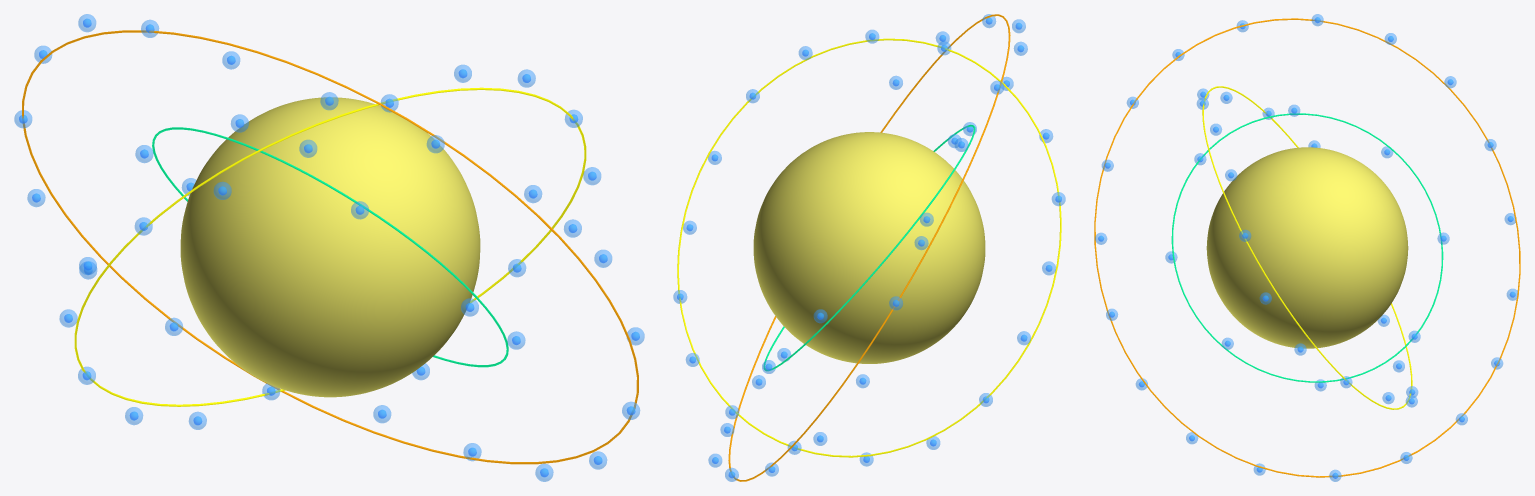
3 views of the same model, side by side, from view 1: azimuth 30°, elevation 25°; view 2: azimuth 150°, elevation 25°; view 3: azimuth 270°, elevation 25° (orthographic). The views are drawn at different scales.
Parts seen in each view (by area): view 1: Ag, object 61, object 24, object 7; view 2: Ag, object 24, object 61, object 7; view 3: Ag, object 61, object 7, object 24.
Part boxes in pixels (x1=…): Ag: x1=180, y1=97, x2=480, y2=397; object 61: x1=22, y1=30, x2=638, y2=464; object 24: x1=74, y1=87, x2=586, y2=406; object 7: x1=152, y1=127, x2=508, y2=367; Ag: x1=753, y1=132, x2=985, y2=363; object 24: x1=677, y1=38, x2=1061, y2=457; object 61: x1=728, y1=14, x2=1010, y2=481; object 7: x1=763, y1=124, x2=975, y2=371; Ag: x1=1206, y1=147, x2=1408, y2=348; object 61: x1=1094, y1=18, x2=1520, y2=477; object 7: x1=1171, y1=113, x2=1443, y2=382; object 24: x1=1202, y1=86, x2=1412, y2=409.
Size of the model in its own units: 4.92 by 5.14 by 5.52.
